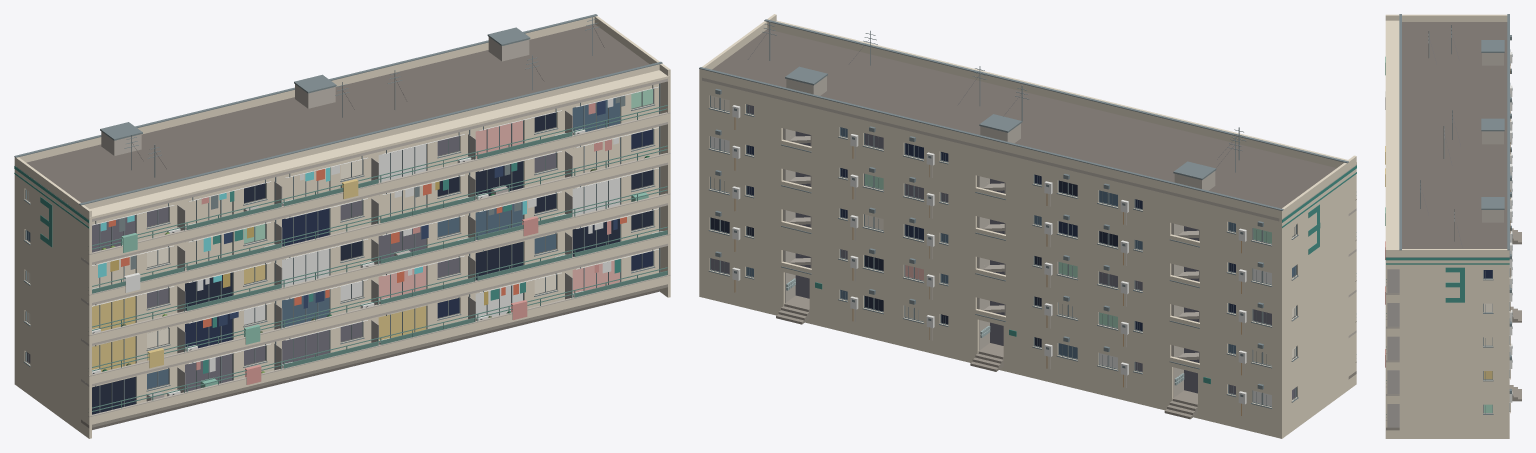
File: tb_danchi_5f_01.fbx
3 views of the same model, side by side, from view 1: azimuth 30°, elevation 25°; view 2: azimuth 150°, elevation 25°; view 3: azimuth 270°, elevation 25° (orthographic). The views are drawn at different scales.
Visible parts, largest first — view 1: tb_danchi_5f_01; view 2: tb_danchi_5f_01; view 3: tb_danchi_5f_01.
Part boxes in pixels (x1,y1,x2,y2): tb_danchi_5f_01: [14, 14, 670, 438]; tb_danchi_5f_01: [699, 14, 1356, 438]; tb_danchi_5f_01: [1385, 14, 1521, 438].
Size of what is drawn, in the model's own units: 40.62 by 17.3 by 9.96.
3 materials, 3 textured.
